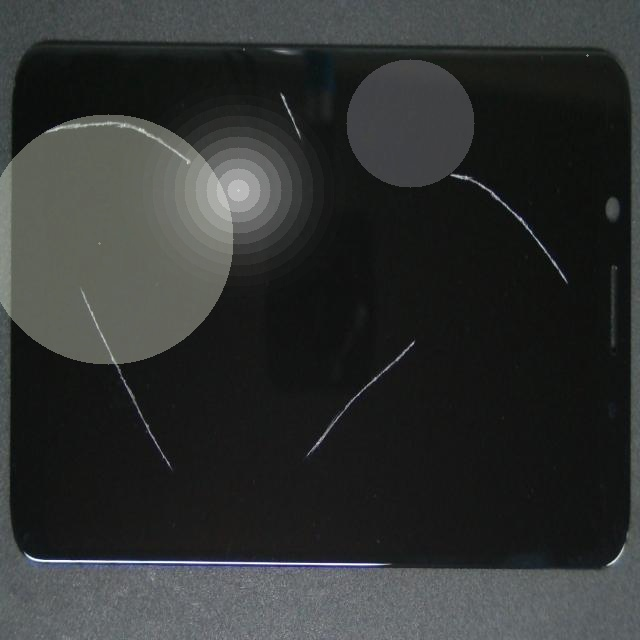scratch: (282, 72, 569, 532), (126, 278, 268, 640)
